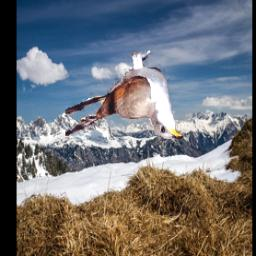Cuckoo: (65, 51, 183, 139)
